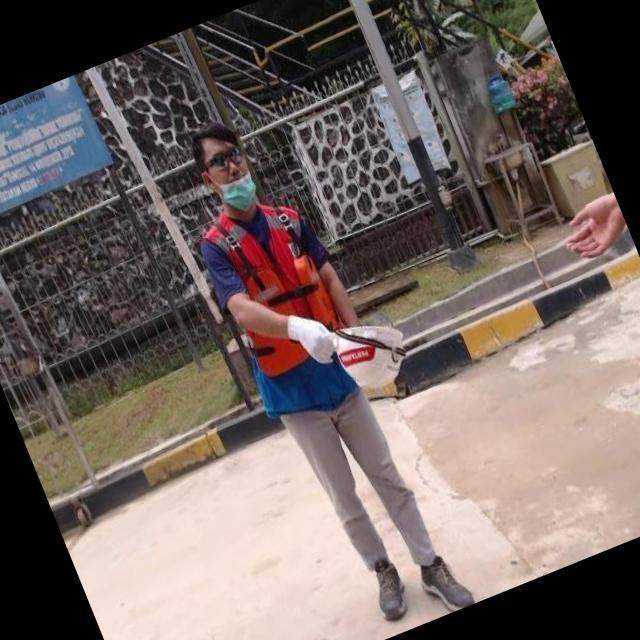safety_vest: (190, 186, 377, 436)
vehicle: (113, 67, 519, 640)
work_boots: (410, 546, 479, 620), (356, 552, 418, 627)
